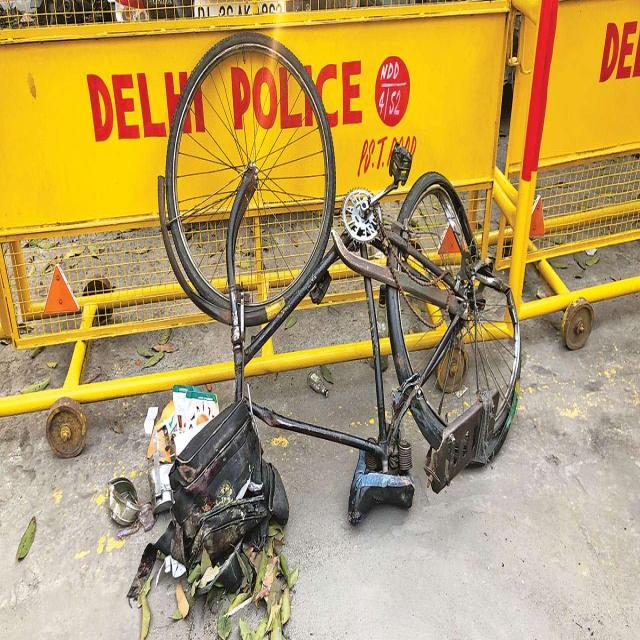accident: (129, 33, 521, 597)
